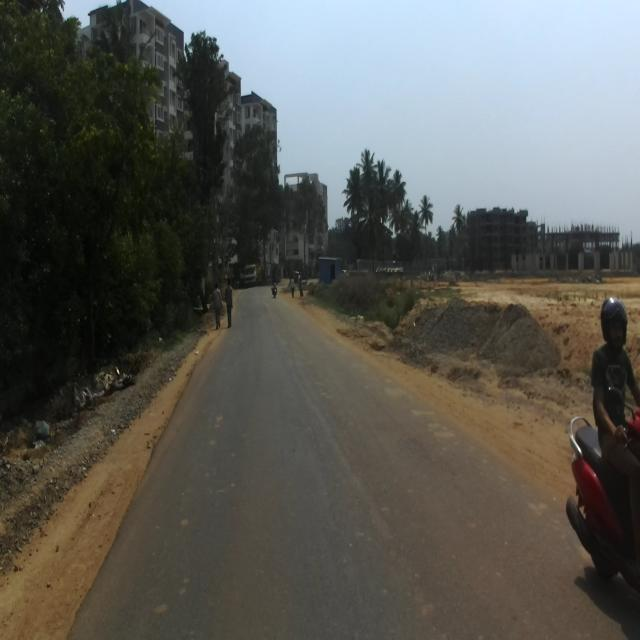motorcycle ahead at: (567, 420, 640, 619)
